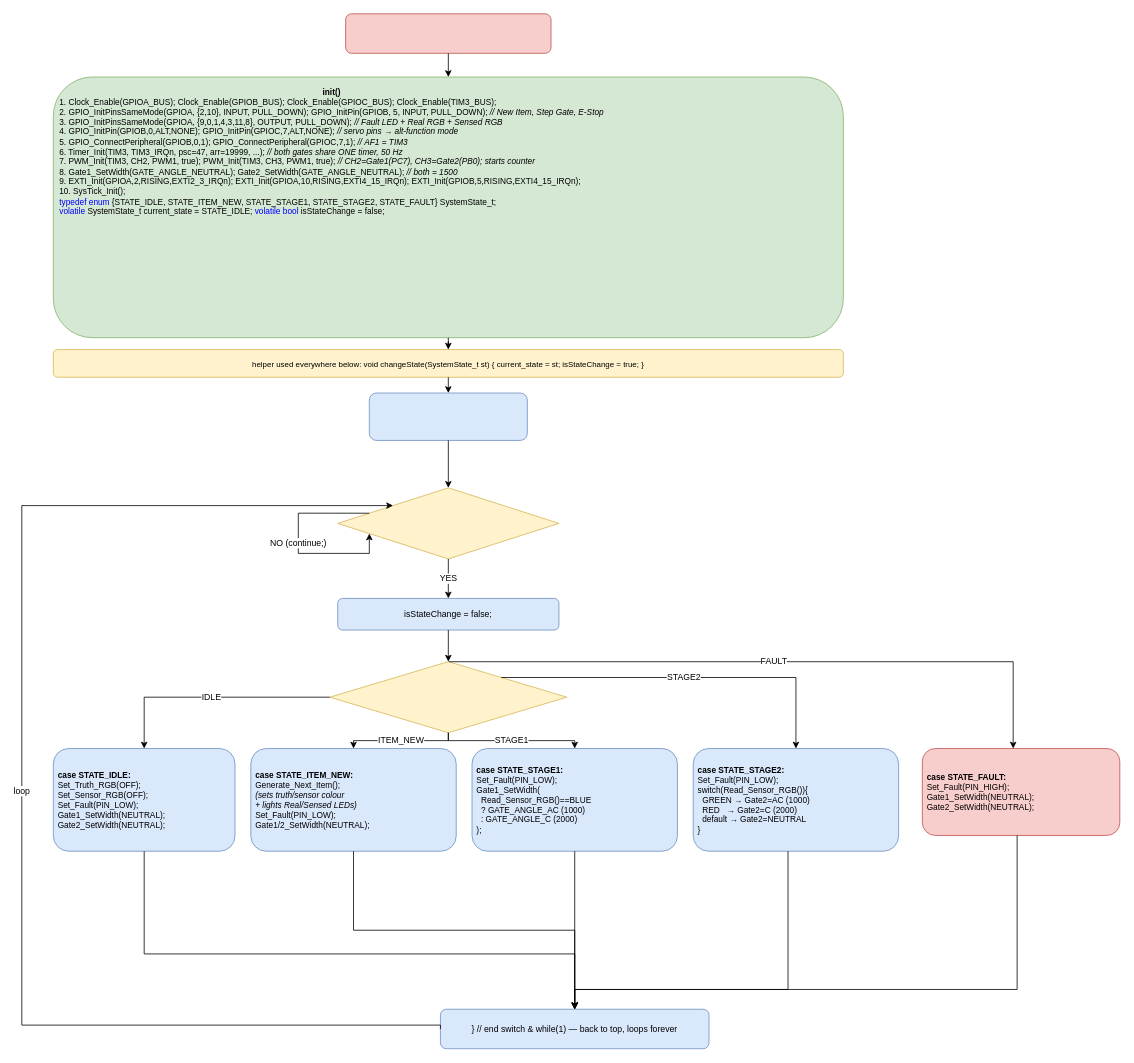
This 1134x1063 diagram has some shape labels left out. The box of each missing label's shape, as (x1, y1, x2, y2) in pixels:
isStateChange == true?: (337, 487, 559, 559)
main() init(); while(1) {: (369, 392, 527, 440)
switch(current_state): (329, 661, 567, 733)
System Power-Up: (345, 13, 551, 53)
